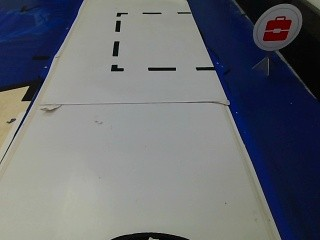company: (251, 2, 302, 52)
